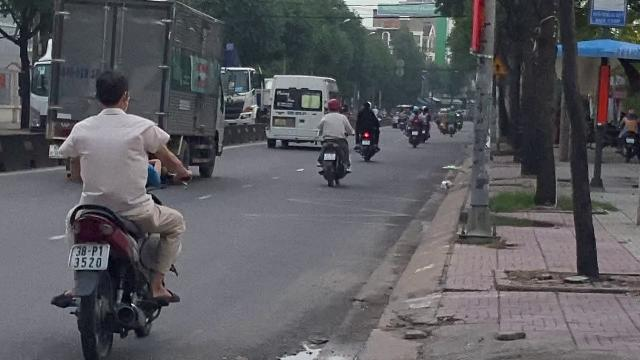licenseplate: (69, 244, 107, 268)
motorcyclist: (46, 67, 190, 357)
nohelmet: (92, 68, 132, 114)
